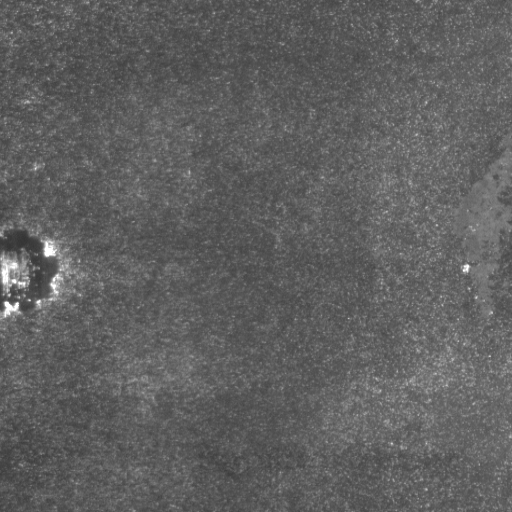aokeng: (1, 223, 63, 320)
